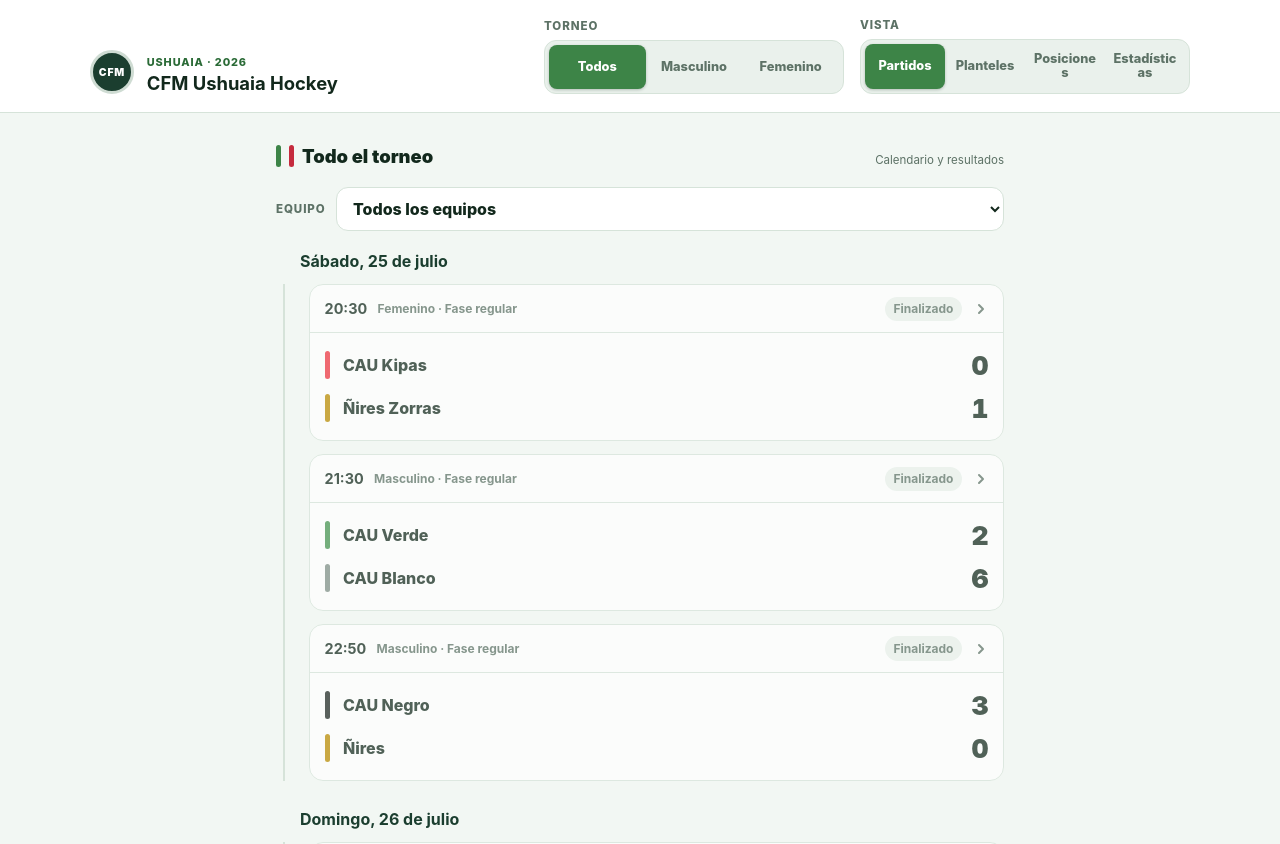
Test: goalkeepers on their own tab › should start on the outfield players
Click the button "Estadísticas". click: (1145, 66)
box: [1105,44,1185,89]
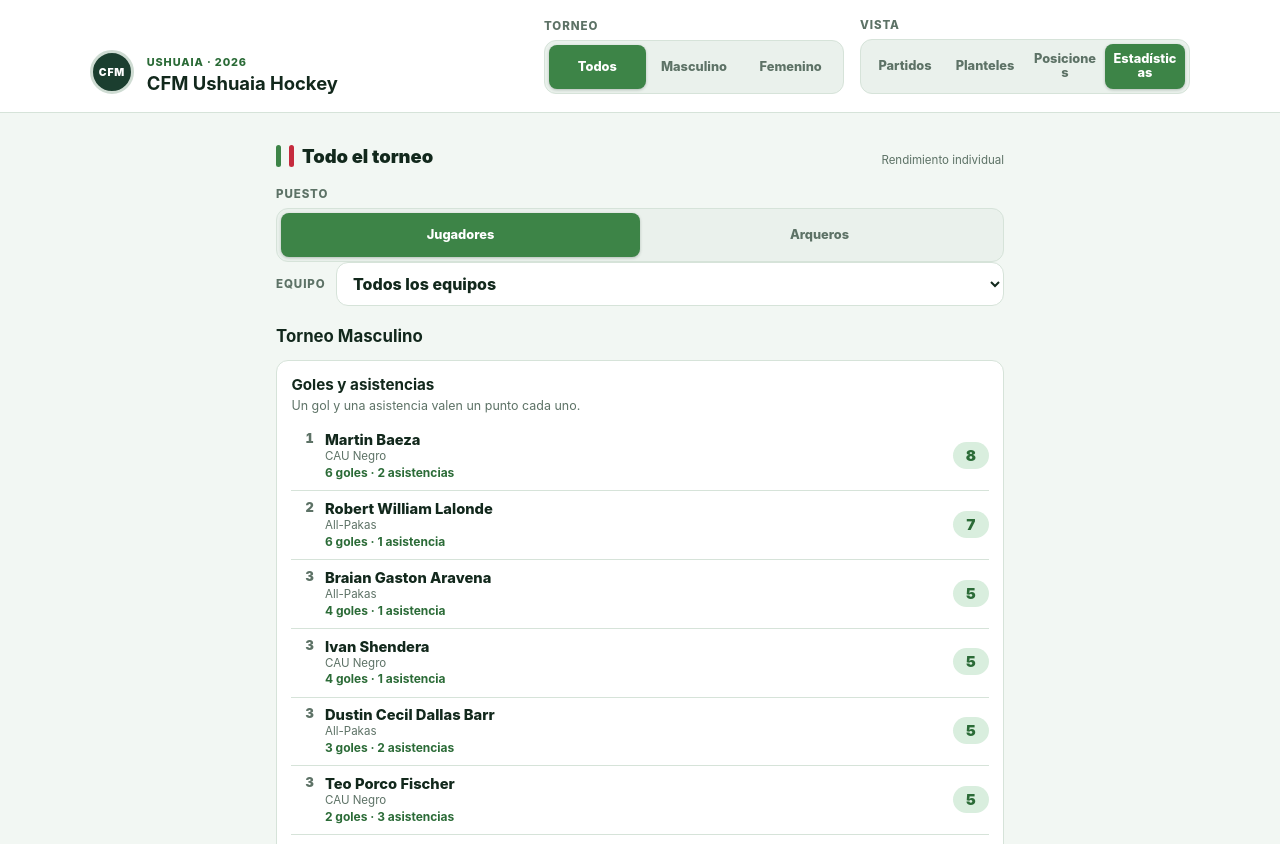
Result: the number of headings "Goles y asistencias" is 2
